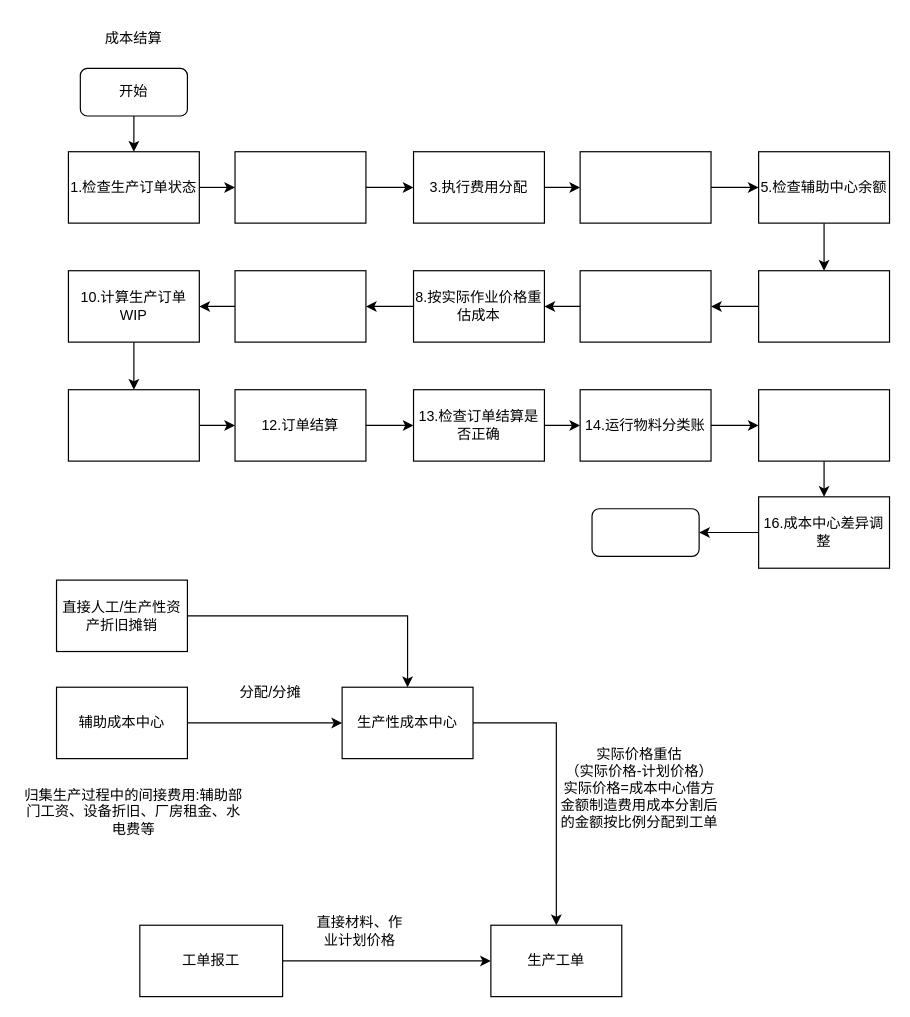
Some shapes in this 910 by 1017 pixel diagram are drawn without their labels. The shapes that lost their labels are listed below. From the top down, each one's centre as x and y in pixels, then its label:
[300,187]: 2.录入统计指标
[645,187]: 4.执行费用分摊
[300,306]: 9.检查生产成本中心余额
[645,306]: 7.计算实际作业价格
[823,306]: 6.成本实际成本划分
[133,425]: 11.计算订单差异
[823,425]: 15.未分摊差异调整
[645,532]: 结束
